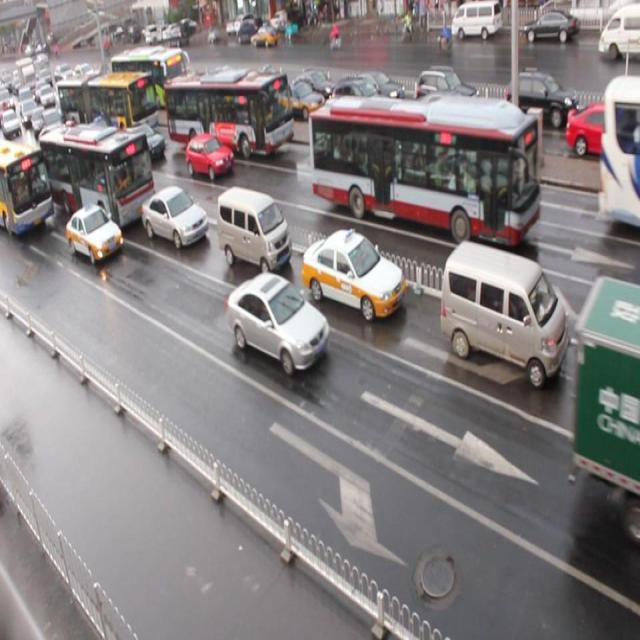bus: (571, 274, 640, 528)
car: (226, 272, 330, 375), (300, 228, 404, 321), (141, 185, 208, 250), (65, 204, 124, 264), (185, 133, 234, 180), (125, 121, 166, 162)
truck: (440, 240, 568, 386), (216, 186, 292, 276)
van: (309, 95, 537, 245), (38, 121, 156, 232), (165, 72, 292, 159), (598, 74, 640, 229), (57, 71, 158, 129), (0, 138, 54, 234)
